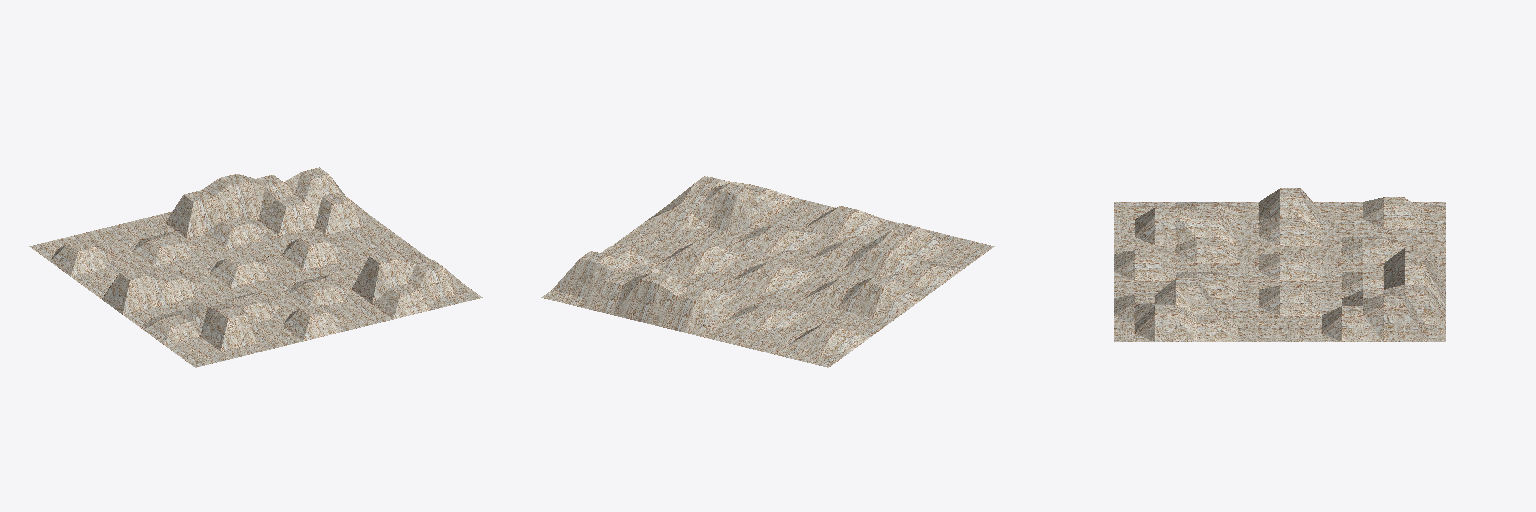
3 renders of one model, left to right at view 1: azimuth 30°, elevation 25°; view 2: azimuth 150°, elevation 25°; view 3: azimuth 270°, elevation 25°, orthographic.
Parts seen in each view (by area): view 1: Plane; view 2: Plane; view 3: Plane.
Part boxes in pixels (left/top/right/bottom): Plane: left=29, top=167, right=482, bottom=367; Plane: left=541, top=176, right=994, bottom=367; Plane: left=1114, top=188, right=1445, bottom=341.
Bounding box in the file's own units: 40 × 4.27 × 40.
1 materials, 1 textured.